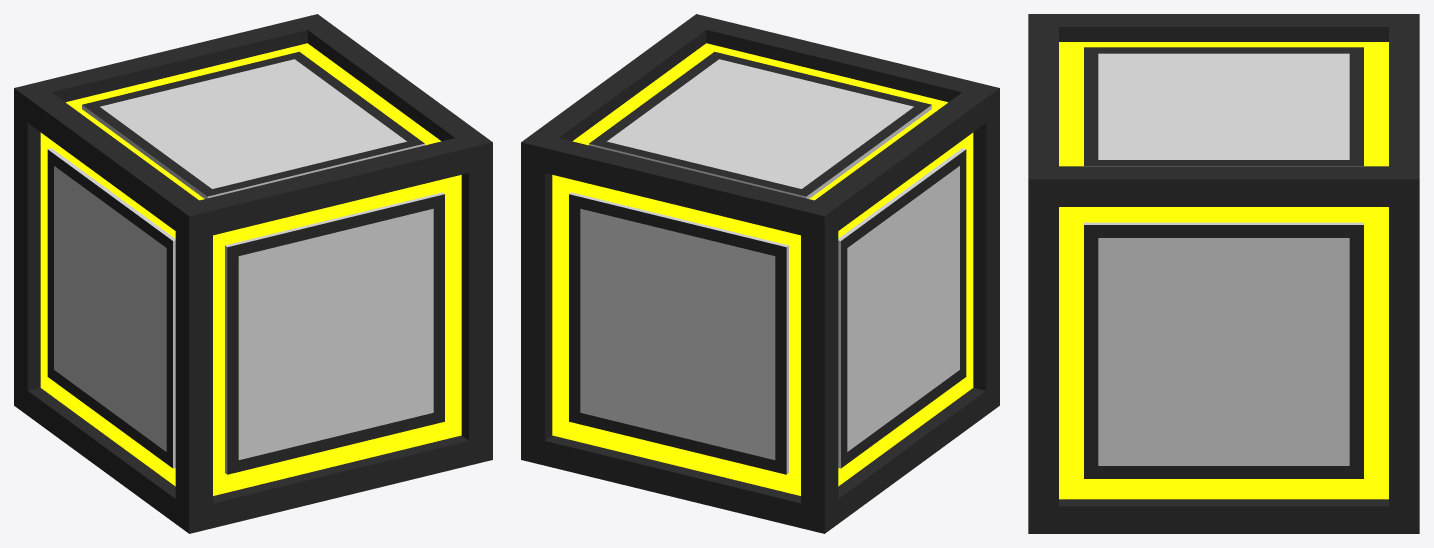
Rendered from Vr Props - Cube.fbx.
The picture shows the model from 3 angles, left to right: view 1: azimuth 30°, elevation 25°; view 2: azimuth 150°, elevation 25°; view 3: azimuth 270°, elevation 25°; orthographic projection. The views are drawn at different scales.
Visible parts, largest first — view 1: Cube.001; view 2: Cube.001; view 3: Cube.001.
Boxes of the visible parts, x1,y1,x2,y2 form: Cube.001: (14,14,492,533); Cube.001: (521,14,999,533); Cube.001: (1028,14,1419,533).
Bounding box in the file's own units: 200 × 200 × 200.
